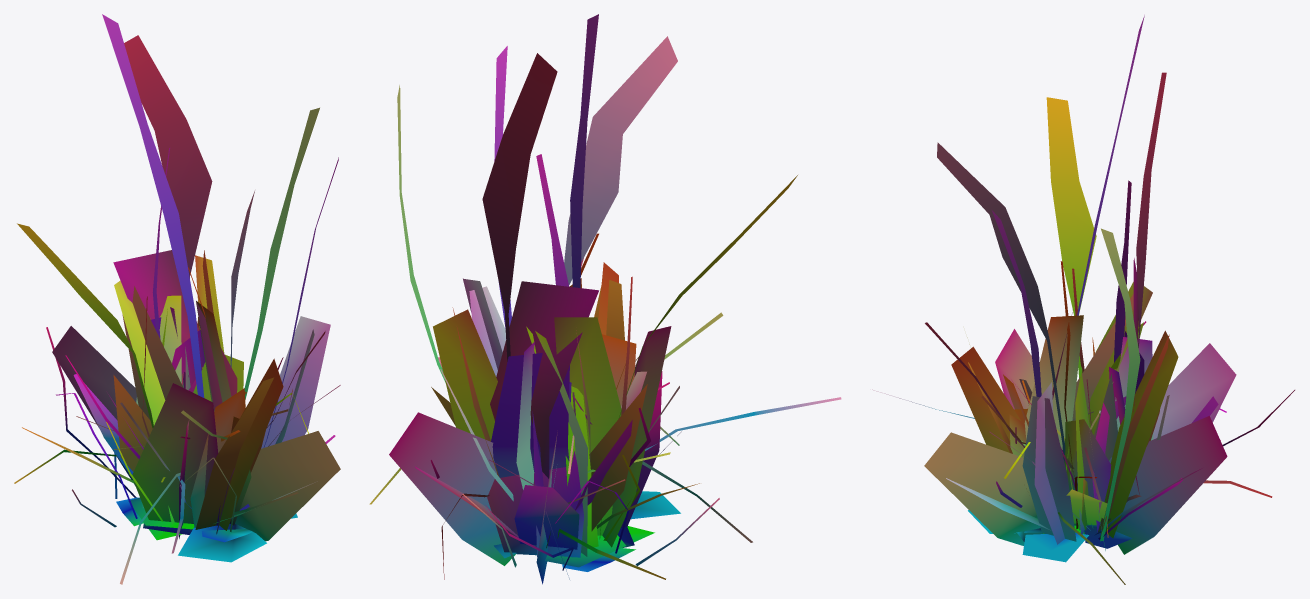
File: uddmcgbia_VarA_LOD0.fbx
The picture shows the model from 3 angles, left to right: view 1: azimuth 30°, elevation 25°; view 2: azimuth 150°, elevation 25°; view 3: azimuth 270°, elevation 25°; orthographic projection. The views are drawn at different scales.
Parts seen in each view (by area): view 1: _c714_VarA_LOD2; view 2: _c714_VarA_LOD2; view 3: _c714_VarA_LOD2.
Part boxes in pixels (<box>): _c714_VarA_LOD2: <box>14,14,340,584</box>; _c714_VarA_LOD2: <box>369,14,841,584</box>; _c714_VarA_LOD2: <box>872,15,1294,584</box>.
Size of the model in its own units: 42.26 by 62.17 by 47.8.
